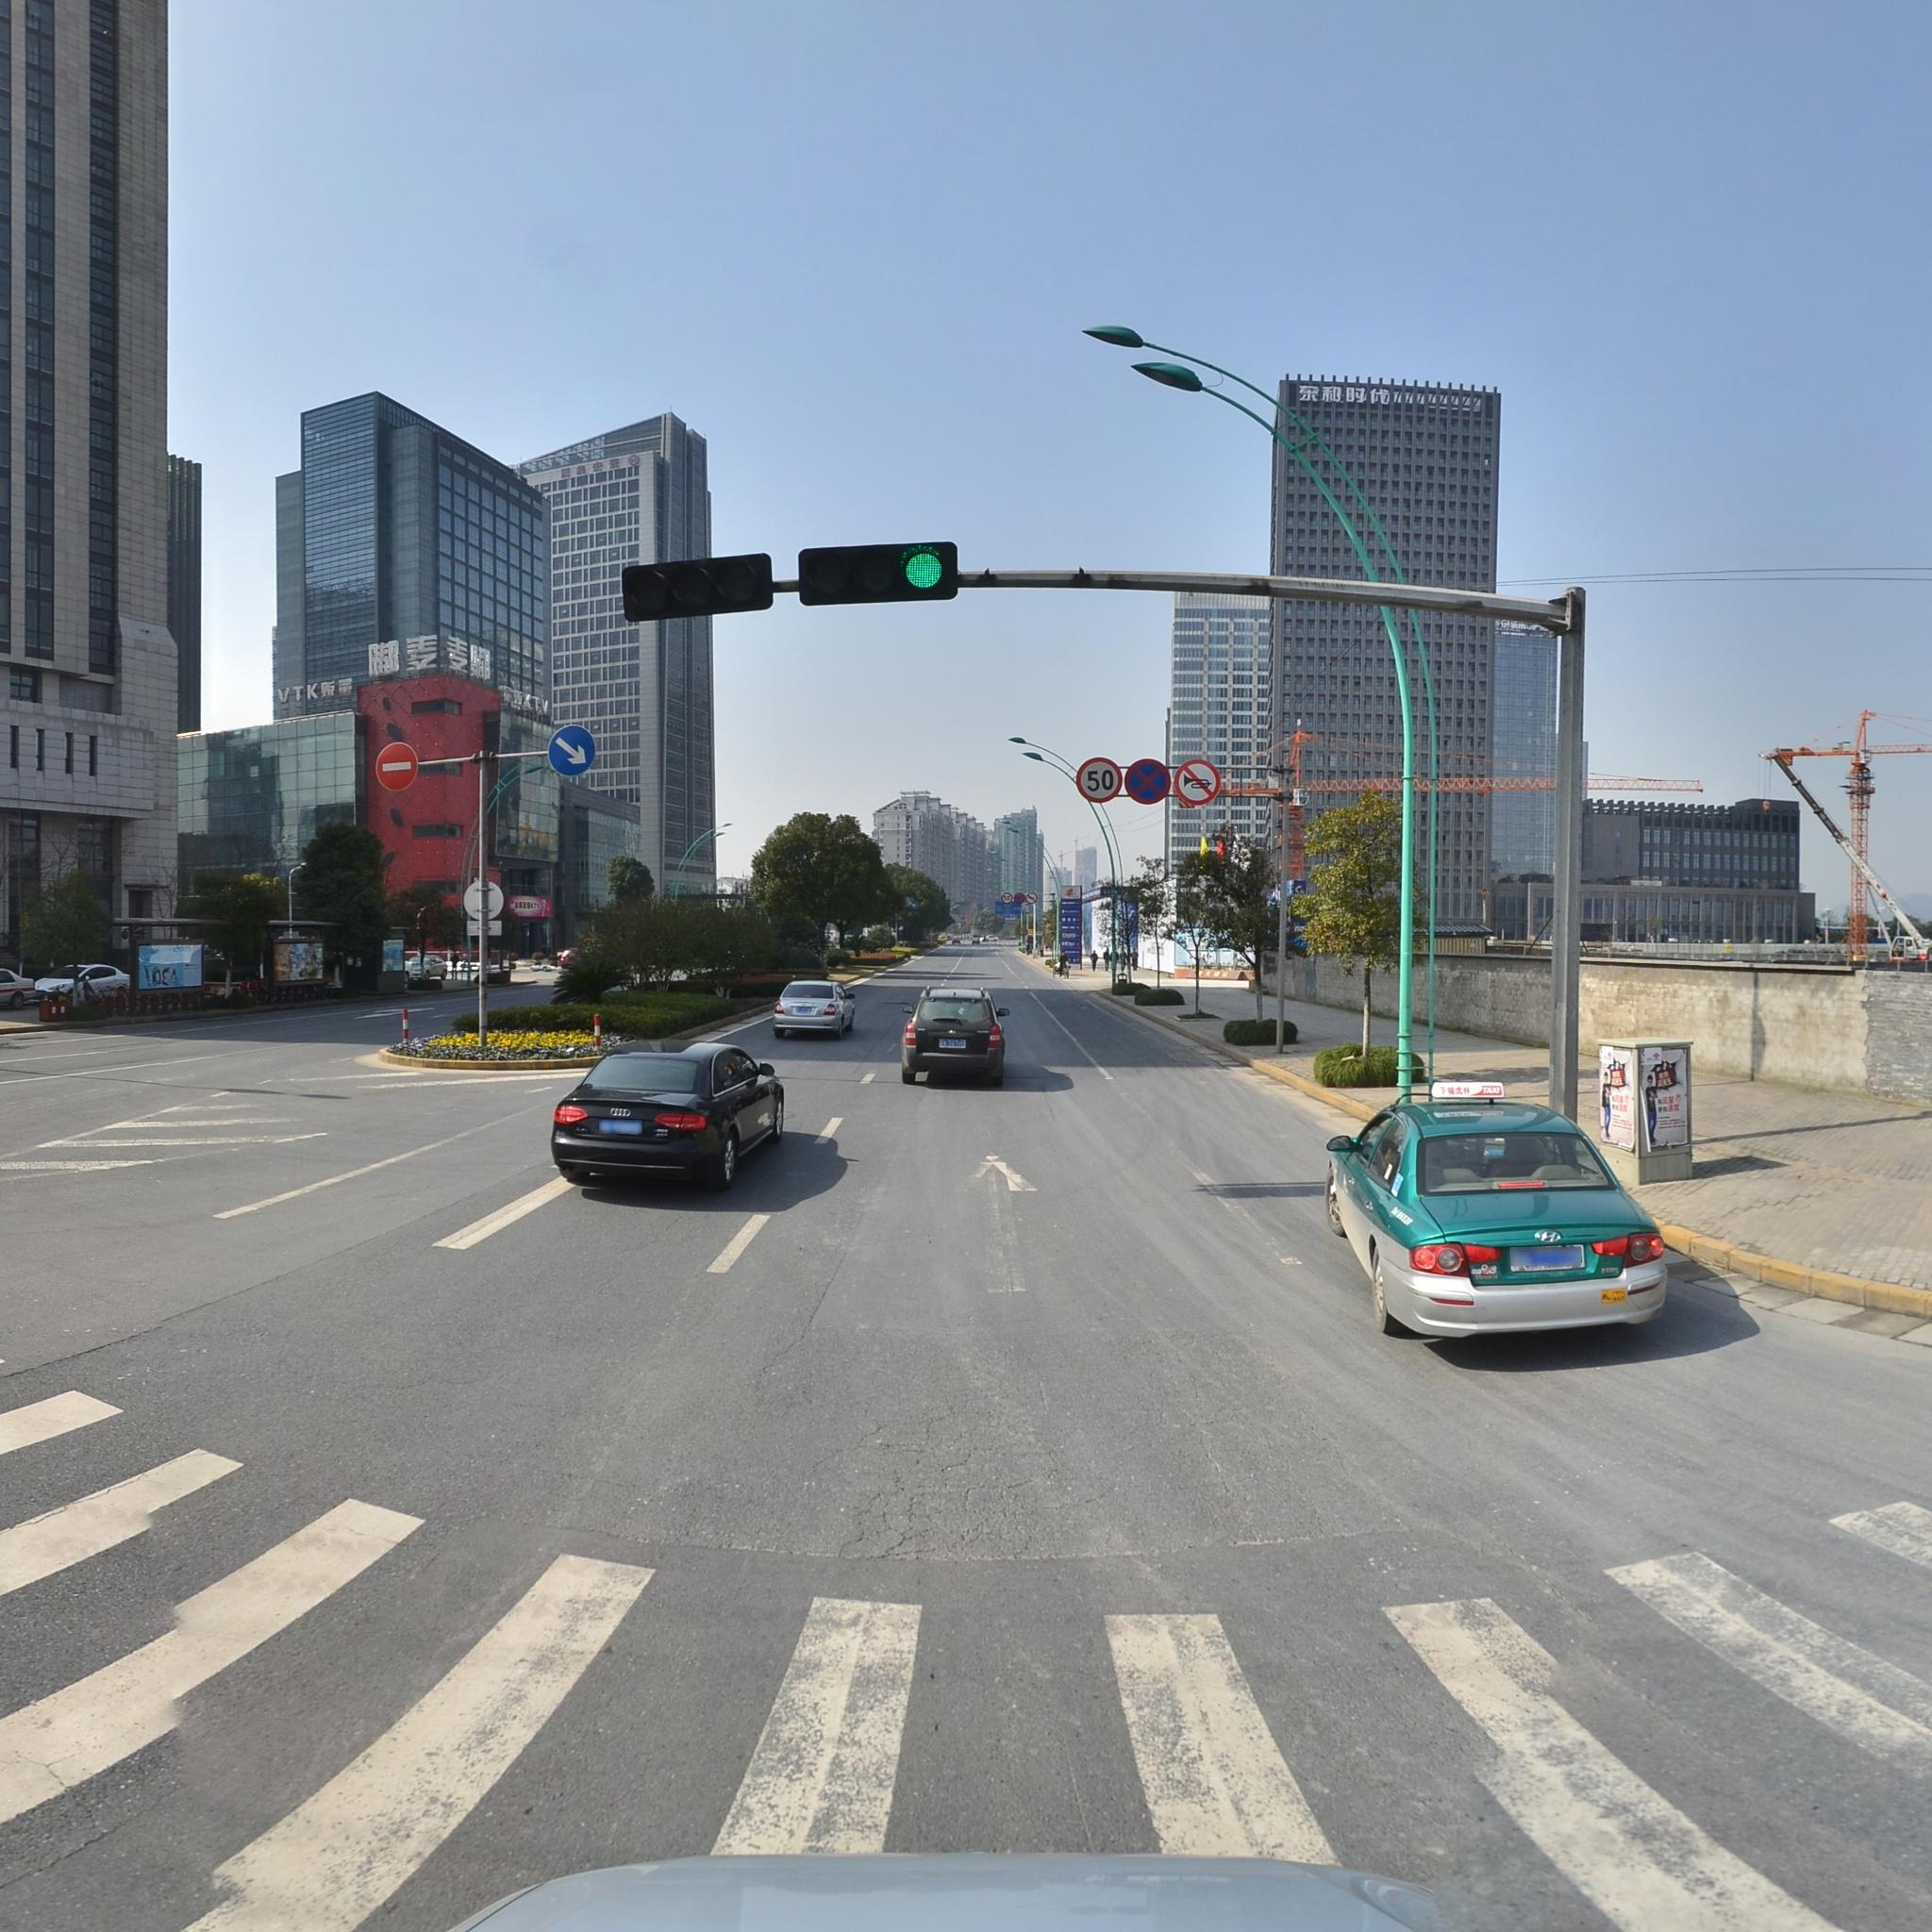i5: (545, 725, 600, 775)
p11: (1177, 759, 1217, 807)
pl50: (1077, 759, 1120, 803)
pn: (1127, 755, 1171, 807)
pne: (377, 741, 419, 791)
